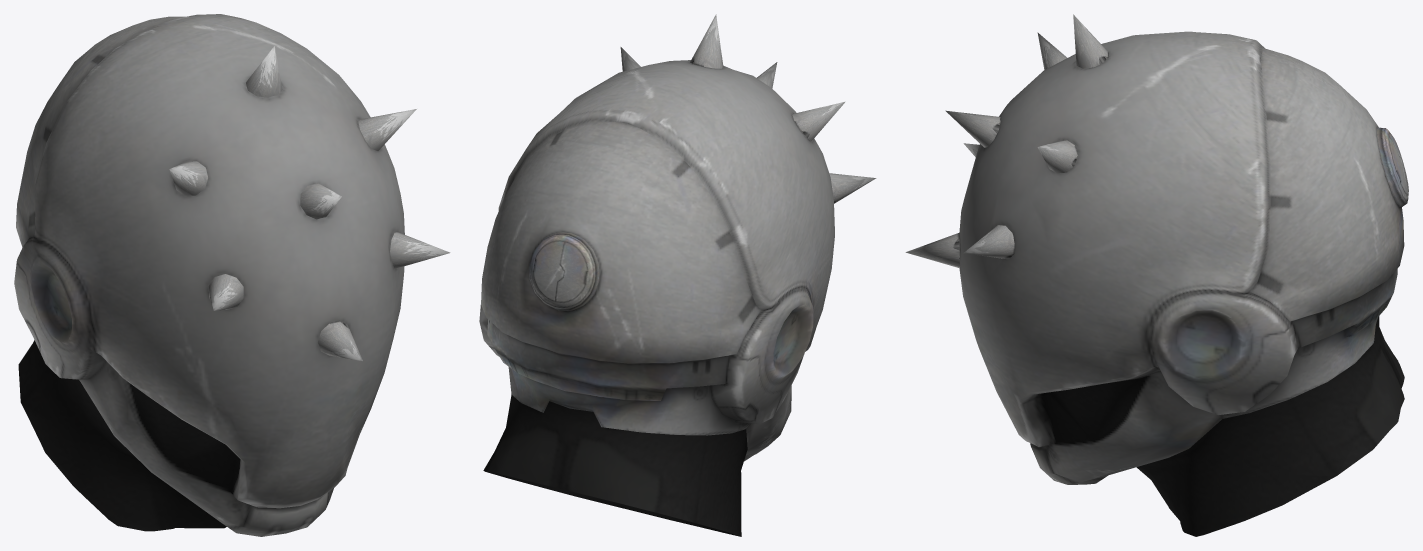
The model's file is Boss head final.fbx.
The picture shows the model from 3 angles, left to right: view 1: azimuth 30°, elevation 25°; view 2: azimuth 150°, elevation 25°; view 3: azimuth 270°, elevation 25°; orthographic projection. The views are drawn at different scales.
Visible parts, largest first — view 1: Body.001; view 2: Body.001; view 3: Body.001.
Boxes of the visible parts, bbox=[...] form: Body.001: bbox=[14, 14, 450, 536]; Body.001: bbox=[479, 14, 876, 536]; Body.001: bbox=[905, 14, 1408, 536].
Size of the model in its own units: 79.24 by 124 by 115.
